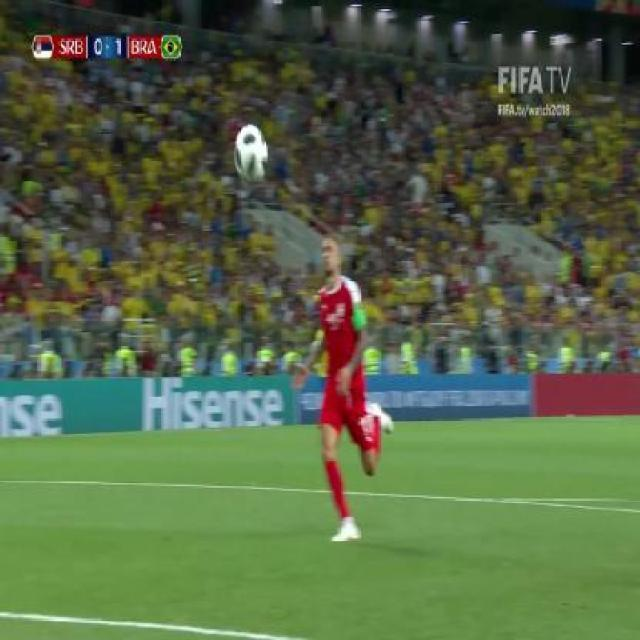ball: (228, 125, 270, 190)
player: (290, 234, 399, 553)
